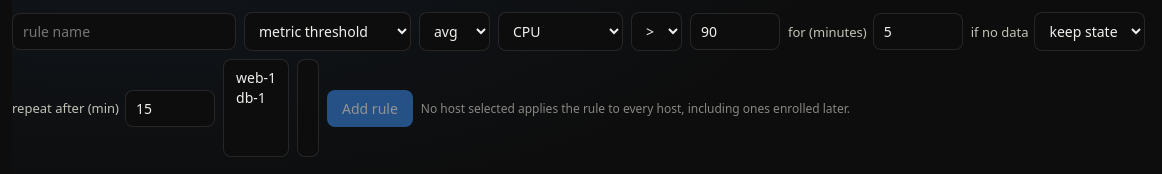
Test: RuleForm › hides the threshold fields for a no-data rule
Expected: the number field named "threshold" is shown, x1=690 y1=13 x2=780 y2=50
Select "host sends no data" in the 1st dropdown showing "metric threshold" at coordinates (328, 32), box x1=244 y1=12 x2=411 y2=51
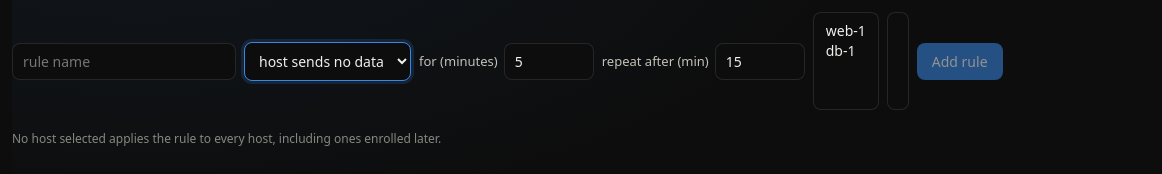
Now the number field labelled "threshold" is gone
Now the label labelled "if no data" is gone
